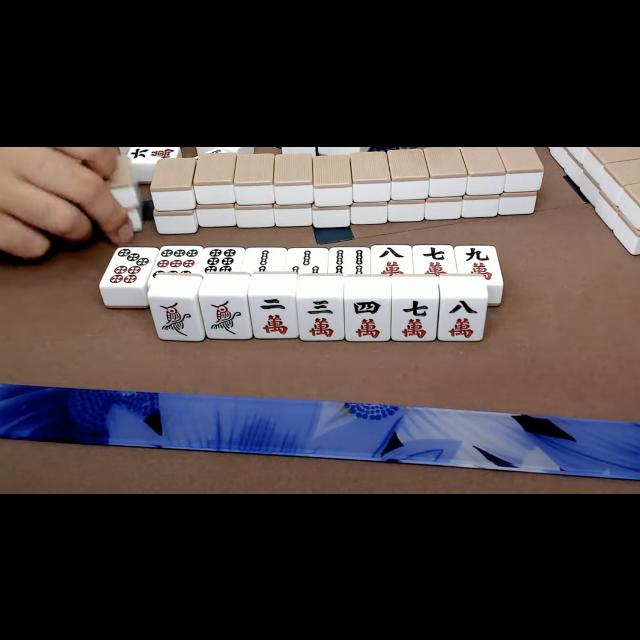b1: (152, 294, 202, 340), (205, 296, 248, 336)
b2: (246, 247, 284, 271)
b3: (285, 248, 327, 274)
b4: (328, 248, 372, 274)
c2: (252, 294, 296, 336)
c3: (300, 297, 342, 339)
c4: (346, 298, 389, 340)
c6: (128, 146, 178, 162)
c7: (394, 298, 436, 338), (414, 244, 456, 274)
c8: (440, 298, 484, 340), (372, 244, 412, 276)
c9: (456, 244, 502, 284)
d7: (102, 248, 152, 286)
d8: (199, 246, 243, 274)
d9: (153, 247, 200, 276)
